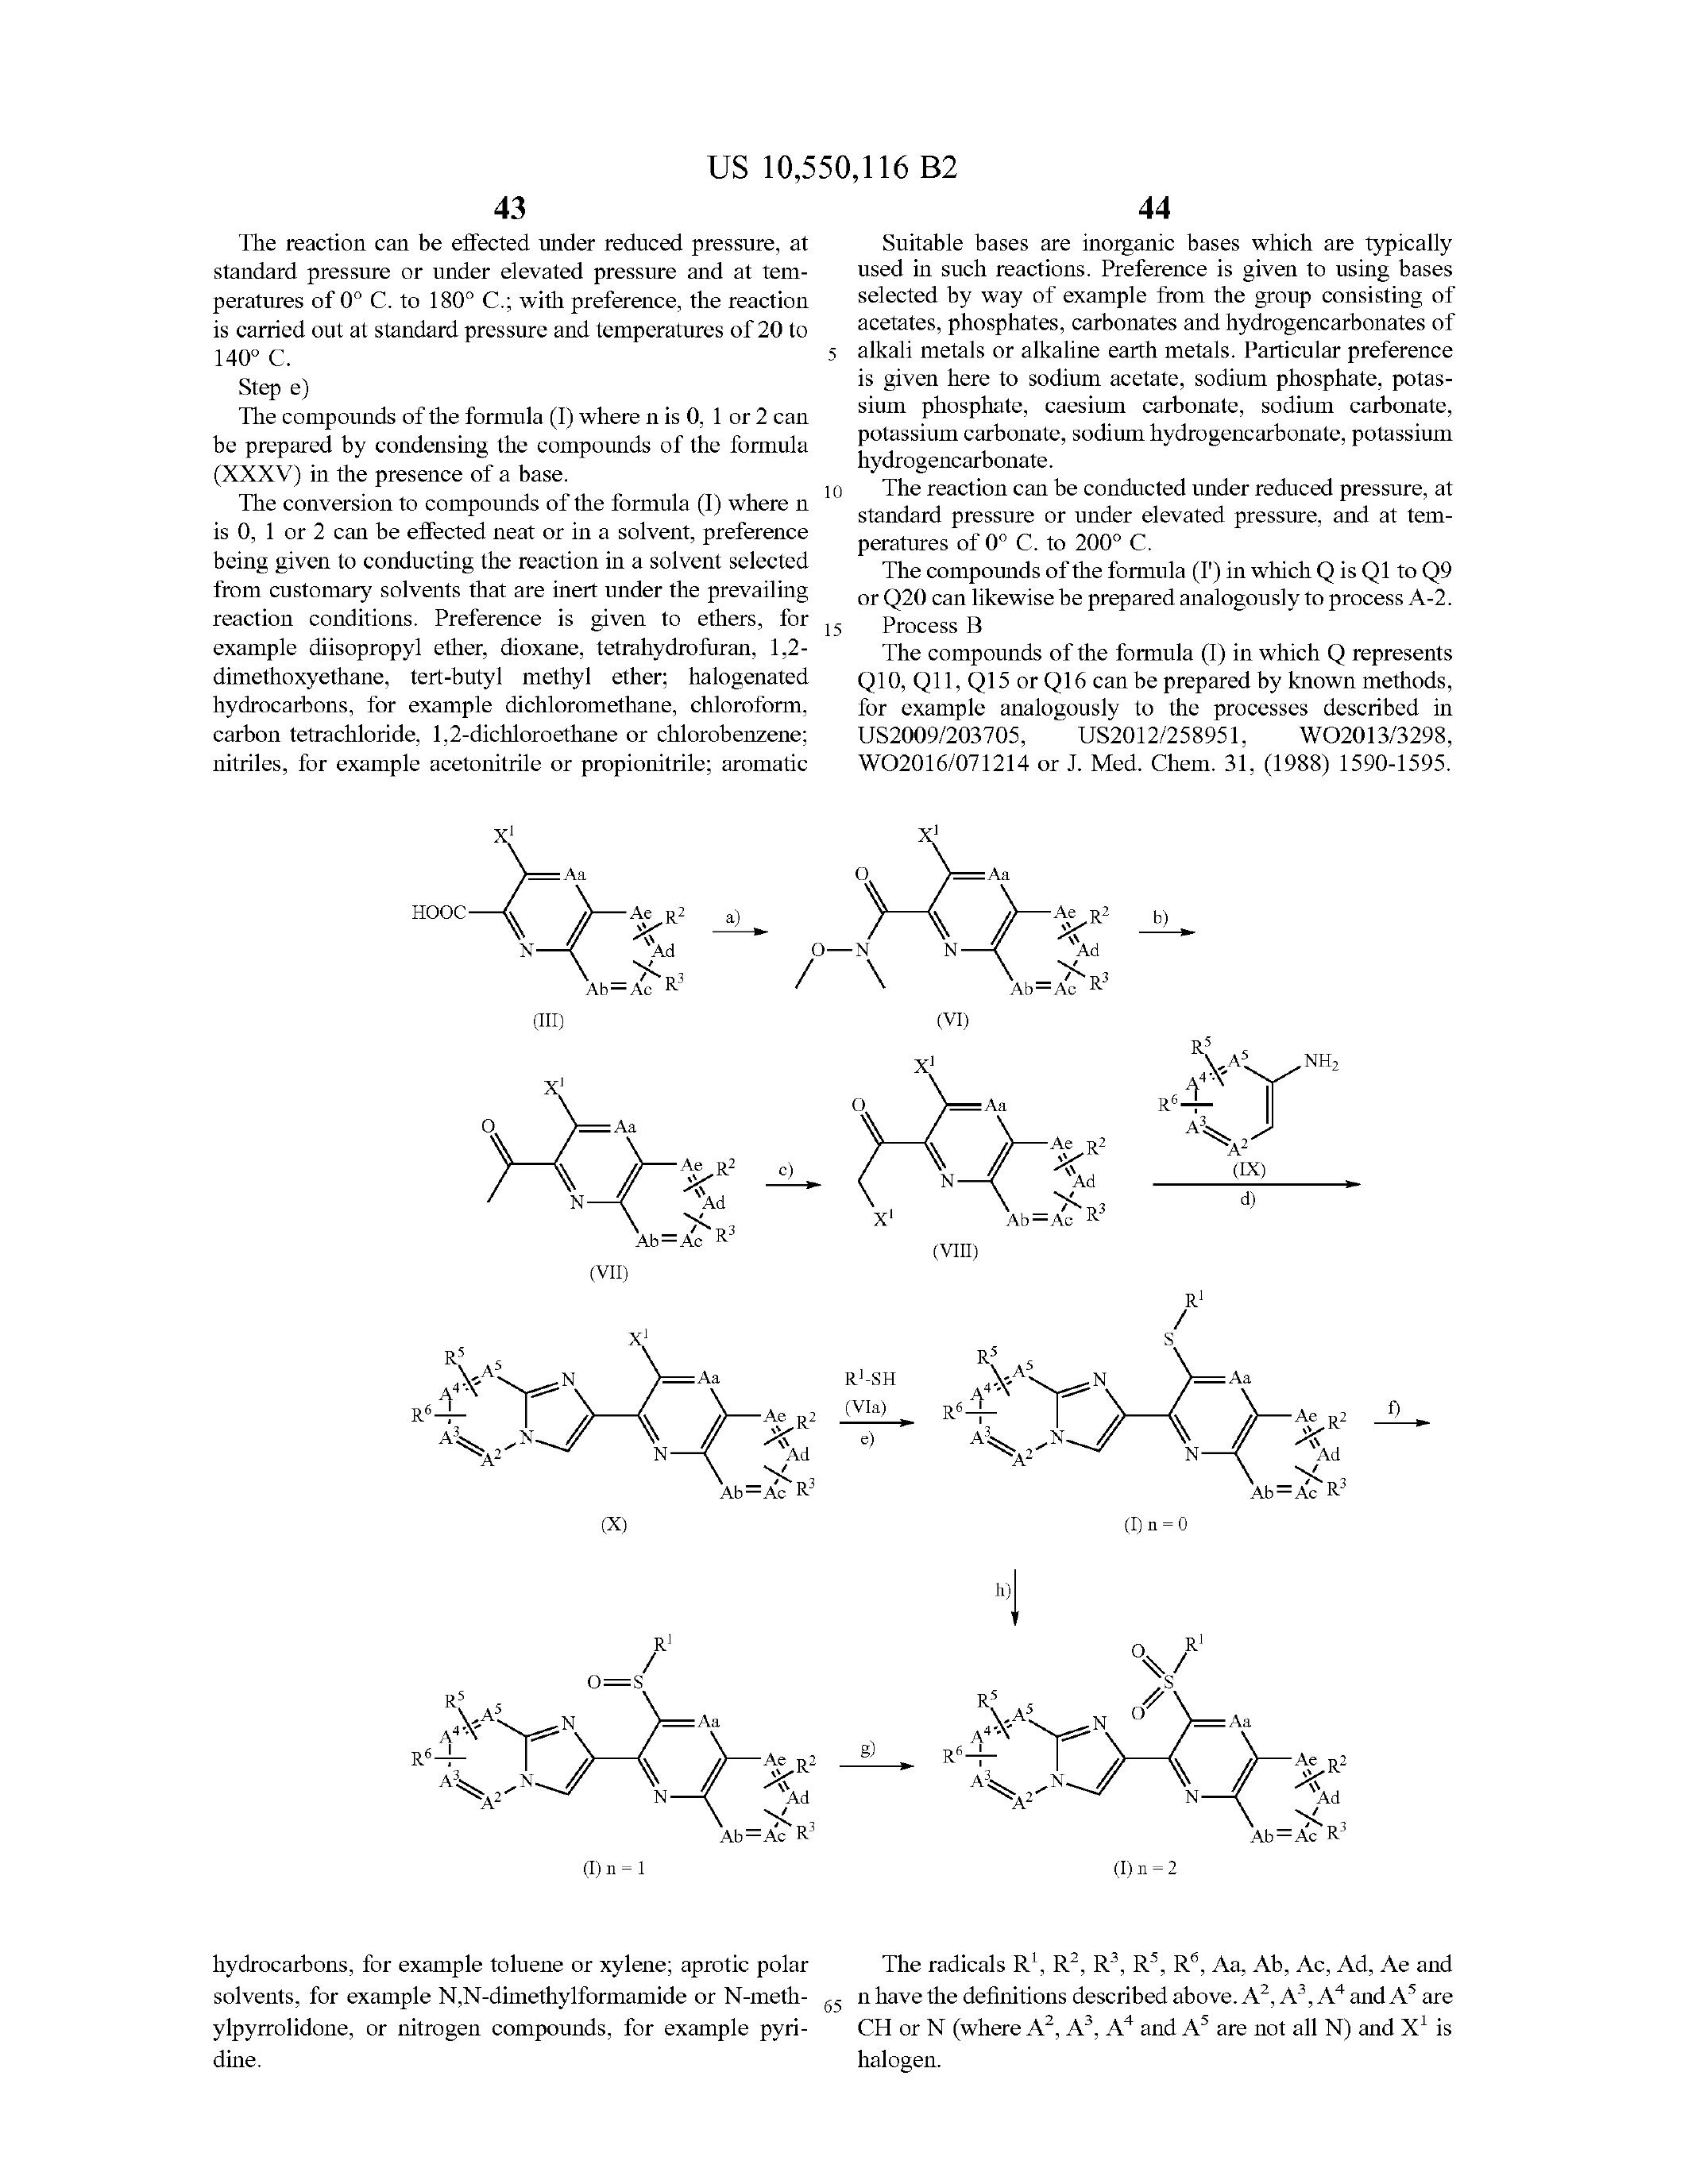reactions: (365, 817, 1445, 1549), (379, 1633, 1376, 1890)
